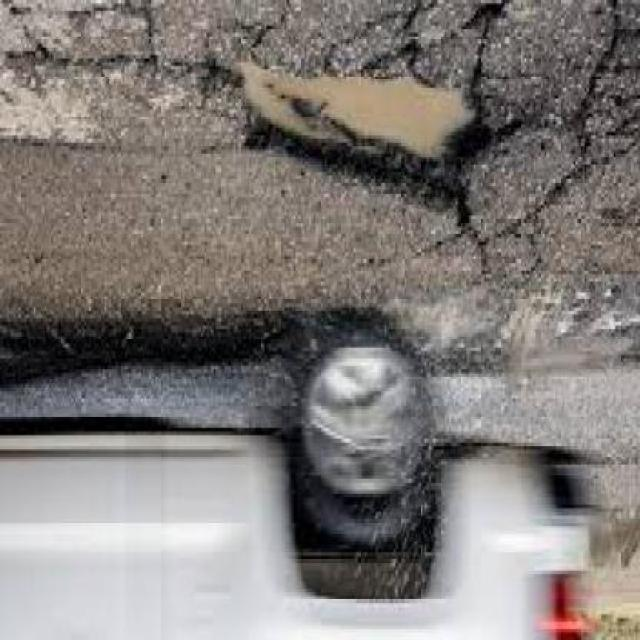pothole: (198, 58, 520, 238)
